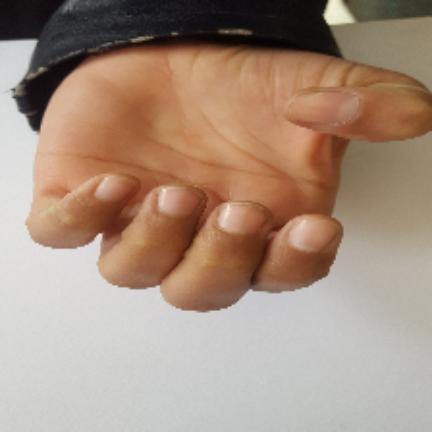Nail: (289, 92, 359, 125), (288, 214, 338, 253), (218, 201, 271, 235), (157, 186, 204, 216), (94, 176, 135, 202)
